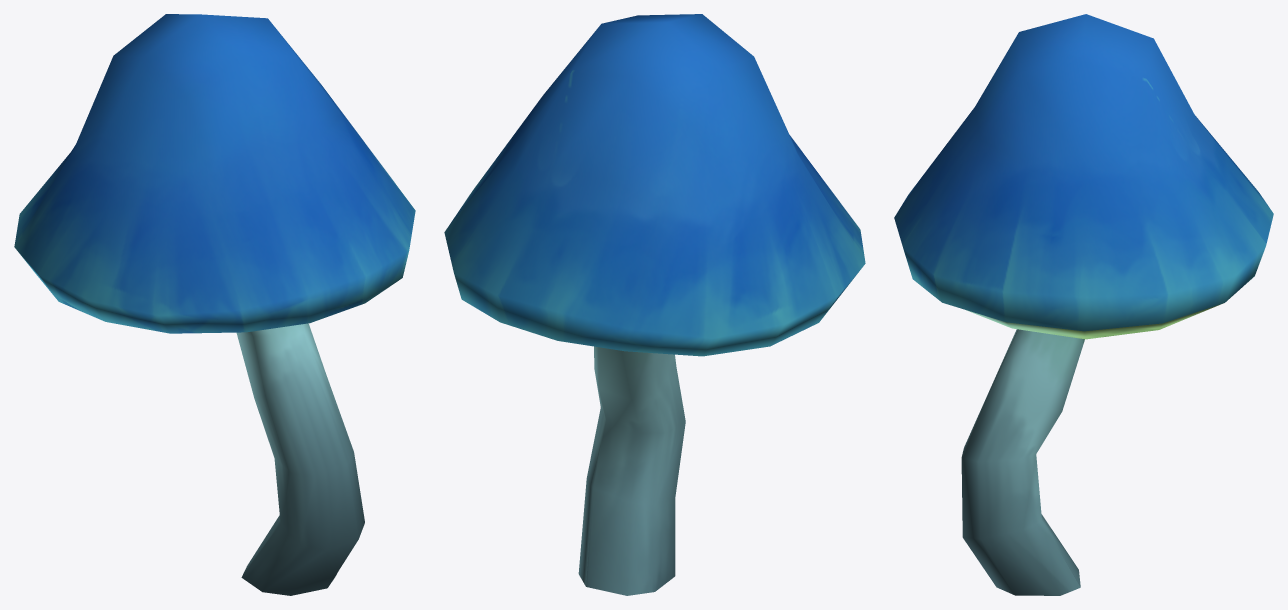
Rendered from MushroomPinch2_Deco (1).fbx.
3 renders of one model, left to right at view 1: azimuth 30°, elevation 25°; view 2: azimuth 150°, elevation 25°; view 3: azimuth 270°, elevation 25°, orthographic. The views are drawn at different scales.
Visible parts, largest first — view 1: MushroomPinch2; view 2: MushroomPinch2; view 3: MushroomPinch2.
Boxes of the visible parts, <box> form: MushroomPinch2: <box>14,14,415,595</box>; MushroomPinch2: <box>444,14,865,595</box>; MushroomPinch2: <box>894,14,1273,595</box>.
Size of the model in its own units: 7.49 by 11.52 by 7.39.
